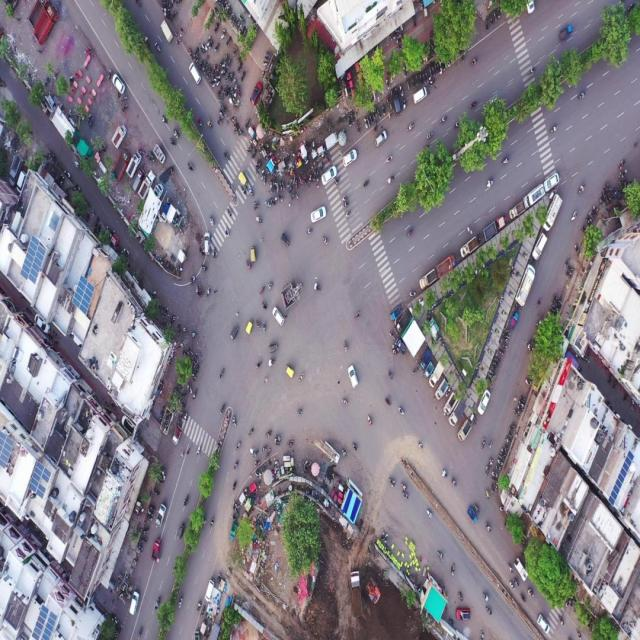3W: (279, 230, 292, 251), (229, 323, 241, 342), (286, 361, 296, 383), (175, 521, 186, 541), (267, 340, 280, 356), (466, 508, 477, 525), (245, 317, 255, 335), (249, 247, 259, 265), (239, 172, 251, 186)
Cars: (531, 231, 548, 258), (478, 388, 492, 417), (271, 302, 286, 329), (307, 205, 329, 223), (111, 73, 128, 96), (348, 363, 361, 391), (320, 164, 338, 184), (250, 81, 264, 106), (515, 558, 529, 582), (390, 88, 401, 116), (342, 148, 358, 167), (543, 173, 560, 190), (537, 612, 550, 634), (129, 591, 139, 619), (203, 578, 215, 601), (454, 608, 473, 622), (188, 64, 200, 86), (375, 129, 388, 148), (414, 87, 427, 105), (203, 232, 211, 256)
LCV: (515, 264, 536, 305), (544, 195, 563, 232), (524, 184, 544, 209), (436, 255, 456, 278), (323, 441, 342, 465), (449, 398, 465, 426), (429, 360, 444, 389), (141, 172, 155, 200), (461, 236, 477, 259), (158, 20, 174, 43), (419, 269, 436, 290), (434, 378, 448, 403), (150, 537, 163, 563), (128, 151, 141, 177), (132, 166, 144, 194), (111, 124, 125, 147), (458, 419, 472, 441), (419, 348, 432, 371), (155, 502, 166, 529), (394, 313, 408, 334), (153, 144, 168, 163), (170, 423, 181, 446), (509, 202, 525, 217), (560, 23, 574, 40), (325, 131, 338, 149), (389, 305, 402, 321), (509, 311, 519, 331), (397, 340, 406, 356)
M2W: (403, 221, 415, 242), (484, 172, 496, 192), (395, 404, 408, 422), (217, 395, 228, 414), (415, 437, 427, 454), (218, 364, 228, 384), (297, 367, 307, 387), (351, 309, 363, 325), (320, 233, 332, 249), (499, 153, 511, 169), (204, 283, 214, 302), (383, 394, 394, 411), (364, 415, 377, 429), (361, 175, 374, 189), (384, 153, 395, 169), (231, 457, 242, 473), (159, 109, 170, 125), (576, 181, 587, 197), (207, 111, 216, 130), (234, 439, 244, 456), (181, 493, 193, 507), (342, 342, 352, 358), (221, 227, 234, 239), (207, 213, 218, 227), (195, 441, 204, 458), (231, 477, 240, 494), (527, 63, 536, 80), (385, 368, 395, 383), (449, 474, 458, 490), (253, 359, 264, 372), (385, 172, 395, 186), (154, 595, 162, 612), (425, 505, 432, 524), (263, 429, 274, 441), (295, 405, 305, 418), (168, 136, 178, 149), (338, 193, 351, 203), (440, 467, 449, 481), (450, 561, 457, 579), (344, 210, 353, 224), (549, 122, 558, 136), (484, 604, 493, 618), (405, 121, 417, 131), (506, 579, 516, 591), (570, 209, 578, 224), (249, 427, 258, 440), (305, 226, 314, 239), (456, 590, 465, 603), (210, 512, 216, 531), (255, 315, 262, 331), (386, 477, 397, 487), (435, 548, 444, 560), (254, 215, 263, 227), (439, 116, 448, 128), (483, 520, 492, 532), (312, 281, 321, 293), (243, 261, 252, 273), (171, 129, 180, 141), (178, 595, 185, 610), (557, 615, 565, 628), (196, 116, 204, 129), (210, 248, 218, 261), (479, 627, 487, 640), (136, 626, 143, 640), (196, 600, 202, 616), (482, 591, 490, 603), (186, 160, 193, 173), (473, 502, 480, 515), (154, 41, 161, 54), (400, 481, 409, 491), (342, 398, 351, 408), (340, 447, 349, 457), (227, 207, 234, 219), (471, 56, 478, 68), (483, 487, 489, 501), (519, 592, 526, 604), (231, 414, 237, 428), (189, 274, 196, 286), (106, 67, 112, 81), (352, 440, 359, 452), (574, 242, 580, 256), (401, 491, 409, 501), (527, 589, 535, 599), (213, 7, 221, 17), (481, 437, 487, 450), (484, 465, 490, 478), (259, 284, 265, 297), (259, 169, 265, 182), (215, 21, 221, 34), (86, 113, 92, 126), (513, 575, 520, 586), (247, 186, 254, 197), (223, 151, 230, 162), (578, 90, 585, 101), (426, 131, 434, 140), (267, 280, 273, 292), (187, 47, 193, 59), (217, 84, 223, 96), (121, 102, 128, 112), (489, 15, 494, 29), (564, 257, 571, 267), (618, 159, 625, 169), (241, 186, 247, 197), (238, 62, 244, 73), (221, 28, 226, 41), (399, 84, 404, 97), (405, 78, 410, 91), (262, 319, 266, 335), (409, 289, 417, 297), (265, 201, 272, 210), (262, 443, 269, 452), (268, 358, 275, 367), (454, 120, 461, 129), (389, 331, 396, 340), (471, 100, 477, 110), (262, 301, 268, 311), (251, 148, 257, 158), (287, 178, 293, 188), (290, 191, 296, 201), (240, 70, 245, 82), (198, 59, 204, 69), (245, 119, 251, 129), (89, 118, 94, 130), (488, 458, 494, 468), (513, 408, 519, 418), (449, 617, 455, 627), (568, 268, 573, 280), (585, 215, 590, 227), (277, 195, 284, 203), (500, 447, 507, 455), (517, 405, 525, 412), (206, 35, 211, 46), (334, 177, 340, 186), (265, 448, 271, 457), (247, 144, 253, 153), (429, 78, 435, 87), (348, 115, 352, 128), (356, 122, 360, 135), (411, 75, 415, 88), (493, 11, 497, 24), (193, 388, 197, 401), (196, 364, 200, 377), (233, 45, 238, 55), (226, 36, 231, 46), (214, 42, 219, 52), (209, 39, 214, 49), (202, 61, 207, 71), (413, 366, 418, 376), (199, 47, 206, 54), (153, 489, 160, 496), (524, 379, 531, 386), (501, 343, 508, 350), (218, 58, 224, 66), (230, 71, 234, 83), (221, 62, 225, 74), (218, 109, 224, 117), (351, 113, 355, 125), (364, 118, 368, 130), (367, 116, 371, 128), (369, 112, 373, 124), (382, 104, 386, 116), (386, 94, 390, 106), (418, 72, 422, 84), (422, 73, 426, 85), (428, 65, 432, 77), (431, 65, 435, 77), (485, 19, 489, 31), (477, 231, 481, 243), (147, 514, 153, 522), (582, 226, 588, 234), (187, 384, 192, 393), (263, 174, 267, 185), (212, 64, 216, 75), (237, 87, 241, 98), (461, 52, 465, 63), (122, 97, 129, 103), (230, 514, 236, 521), (202, 44, 209, 50), (140, 539, 147, 545), (142, 529, 149, 535), (492, 471, 498, 478), (497, 459, 504, 465), (498, 454, 505, 460), (498, 349, 504, 356), (520, 397, 526, 404), (508, 562, 512, 572), (288, 186, 292, 196), (195, 47, 199, 57), (234, 79, 238, 89), (225, 53, 229, 63), (373, 120, 377, 130), (386, 79, 390, 89), (494, 357, 502, 362), (435, 63, 438, 76), (498, 7, 501, 20), (279, 180, 282, 192), (217, 68, 221, 77), (213, 77, 216, 89), (226, 72, 230, 81), (217, 120, 223, 126), (374, 105, 377, 117), (377, 107, 380, 119), (403, 98, 406, 110), (415, 74, 418, 86), (425, 71, 428, 83), (505, 329, 511, 335), (253, 450, 258, 457), (149, 506, 156, 511), (496, 465, 501, 472), (282, 181, 285, 192), (228, 58, 231, 69), (217, 76, 220, 86), (504, 438, 510, 443), (503, 335, 510, 339), (502, 339, 509, 343)
Truck: (32, 1, 55, 46), (348, 572, 364, 617), (111, 146, 129, 179)
